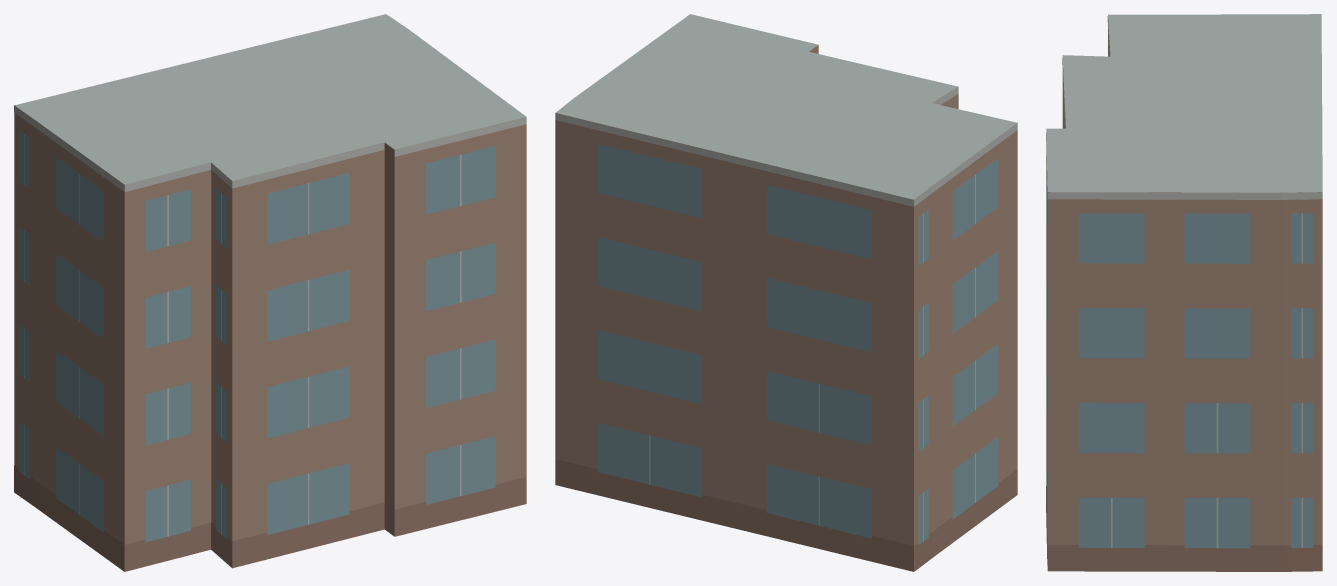
File: survey-upis-32815563.glb
3 renders of one model, left to right at view 1: azimuth 30°, elevation 25°; view 2: azimuth 150°, elevation 25°; view 3: azimuth 270°, elevation 25°, orthographic. The views are drawn at different scales.
Parts seen in each view (by area): view 1: survey-upis-32815563.tmp; view 2: survey-upis-32815563.tmp; view 3: survey-upis-32815563.tmp.
Part boxes in pixels (x1,y1,x2,y2): survey-upis-32815563.tmp: (14,14,526,571); survey-upis-32815563.tmp: (555,14,1017,571); survey-upis-32815563.tmp: (1046,14,1322,571).
Size of the model in its own units: 12.93 by 12.78 by 8.46.
